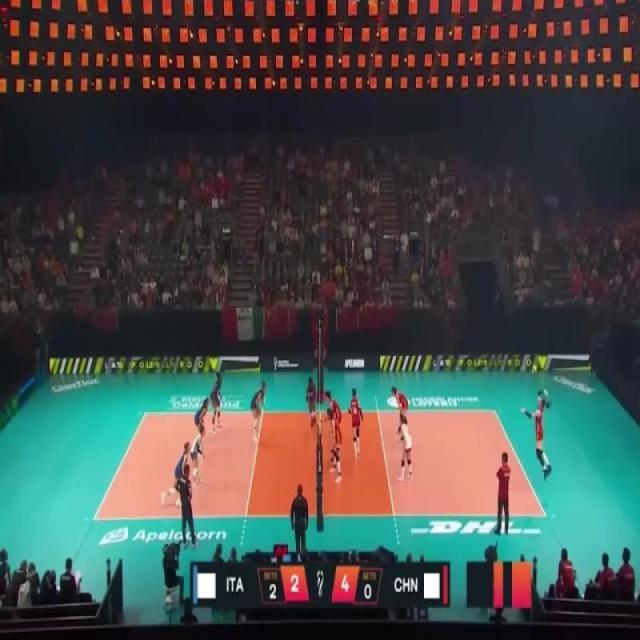volleyball: (531, 364, 537, 376)
